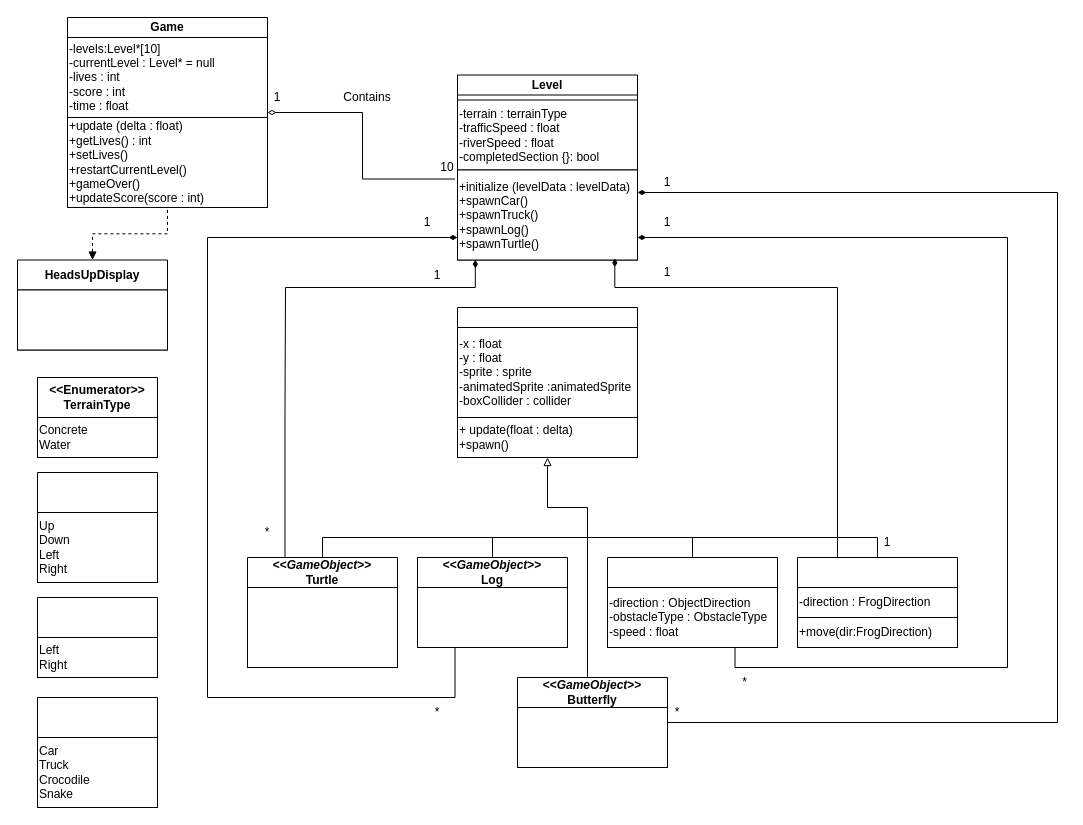
Some shapes in this 1083 by 825 pixel diagram are drawn without their labels. Each missing label, with the box of its shape:
-currentScore : TextBox -hiScore : TextBox: (16, 289, 168, 350)
-direction : ObjectDirection -collected : bool: (516, 706, 668, 768)
-direction : ObjectDirection -speed : float: (416, 586, 568, 648)
-direction : ObjectDirection -speed : float -sinkTimer : float -isSafe : bool: (246, 586, 398, 668)
<< GameObject >> Frog: (796, 556, 958, 648)
<< GameObject >> Obstacle: (606, 556, 778, 648)
<<Enumerator>> FrogDirection: (36, 472, 158, 582)
<<Enumerator>> ObjectDirection: (36, 596, 158, 678)
<<Enumerator>> ObstacleType: (36, 696, 158, 808)
Game Objects: (456, 306, 638, 458)
